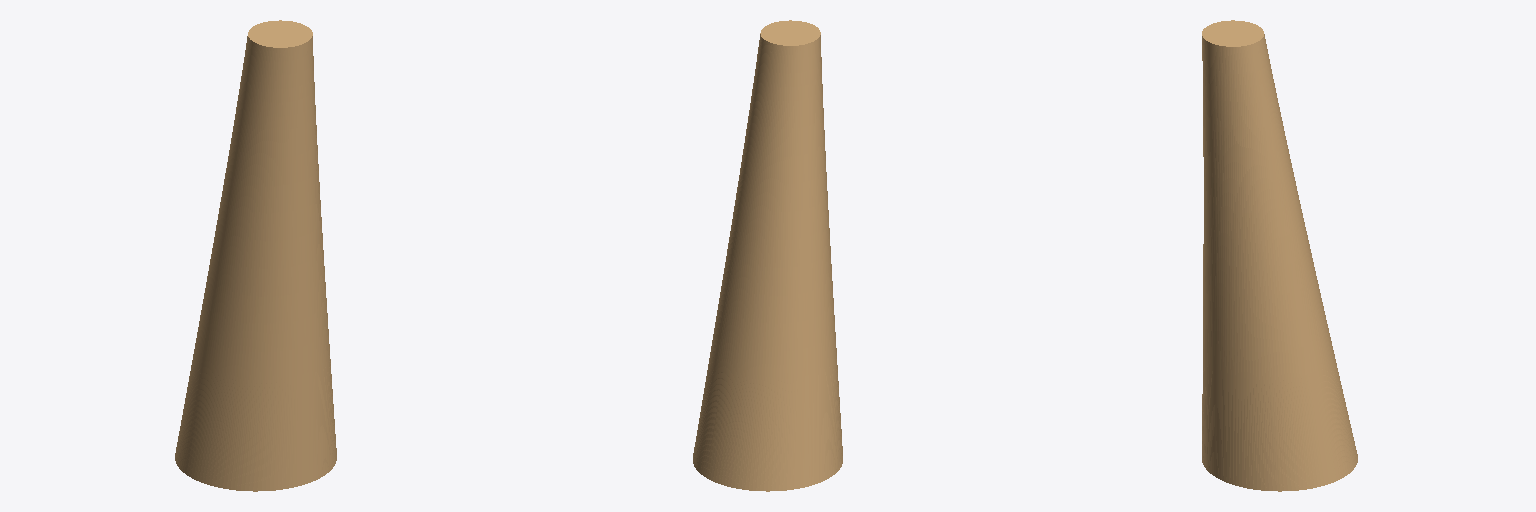
The robot description file, URDF, robot "LargeCone":
<?xml version="1.0"?>
<robot name="LargeCone">

  <!-- Colors -->
  <material name="brown">
      <color rgba="0.87058824 0.72156863 0.52941176 1"/>
  </material>

  <link name="cone">
    <inertial>
      <mass value="1.0"/>
      <!-- <mass value="1.80"/> -->
      <origin xyz="0.003 -0.054 0.5404"/>
      <inertia ixx="166655.046e-6" ixy="-0.357e-6" ixz="0.479e-6" iyy="165103.779e-6" iyz="15539.837e-6" izz="20954.613e-6"/>
    </inertial>

    <contact>
      <lateral_friction value="0.4"/>
      <!-- <rolling_friction value="0.001"/> -->
      <!-- <stiffness value="30000"/> -->
      <!-- <damping value="1000"/> -->
    </contact>

    <visual>
      <origin rpy="0 0 0" xyz="0 0 0"/>
      <geometry>
        <mesh filename="mesh/truncated_cone_final.obj"/>
      </geometry>
      <material name="brown"/>
    </visual>

    <collision>
      <origin rpy="0 0 0" xyz="0 0 0"/>
      <geometry>
        <mesh filename="mesh/truncated_cone_final.obj"/>
      </geometry>
    </collision>

  </link>

</robot>

--- Render facts (derived) ---
The picture shows the robot from 3 angles, left to right: view 1: azimuth 30°, elevation 25°; view 2: azimuth 150°, elevation 25°; view 3: azimuth 270°, elevation 25°; orthographic projection.
Robot: LargeCone — 1 links, 0 joints (none); root link cone; default pose: all joints at 0.
Visible links, largest first — view 1: cone; view 2: cone; view 3: cone.
Link boxes in pixels (left/top/right/bottom): cone: left=175, top=20, right=336, bottom=491; cone: left=693, top=20, right=842, bottom=491; cone: left=1202, top=20, right=1357, bottom=491.
Bounding box of the posed robot: 0.5 × 0.5 × 1.5 m (x, y, z).
1 mesh visuals loaded from 1 distinct referenced files (1 OBJ).